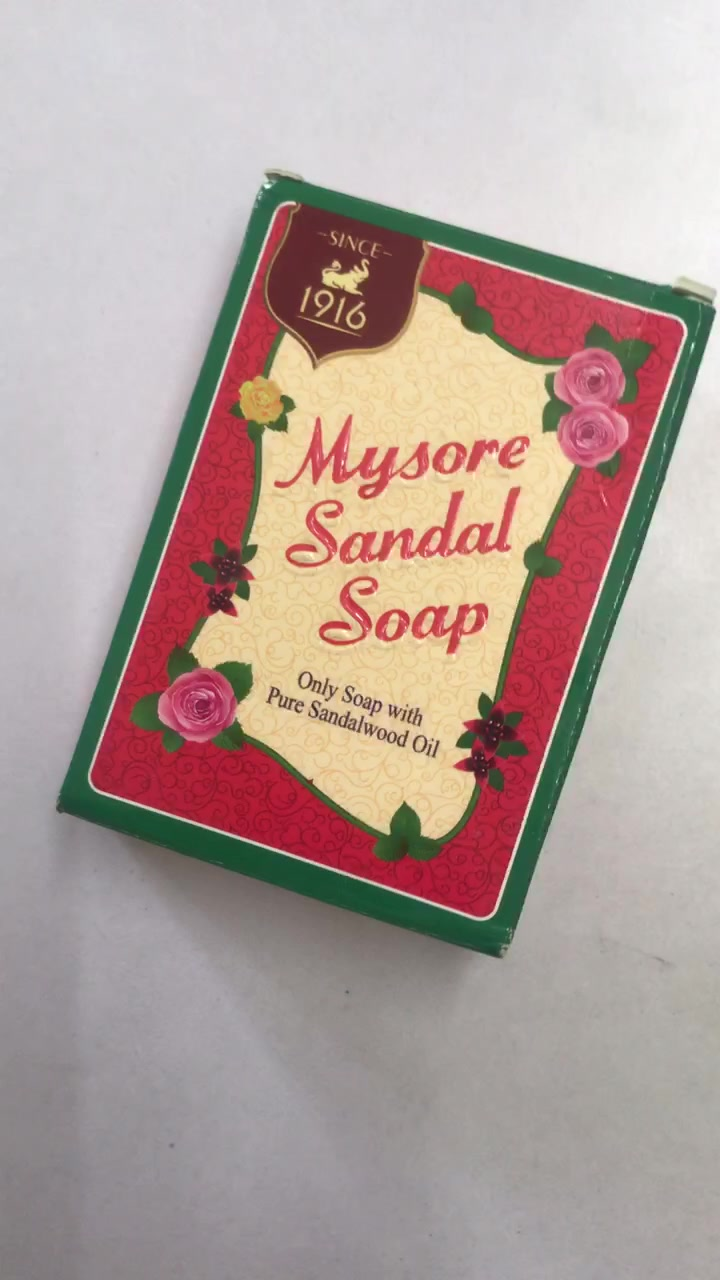mysore sandal soap: (52, 164, 714, 959)
